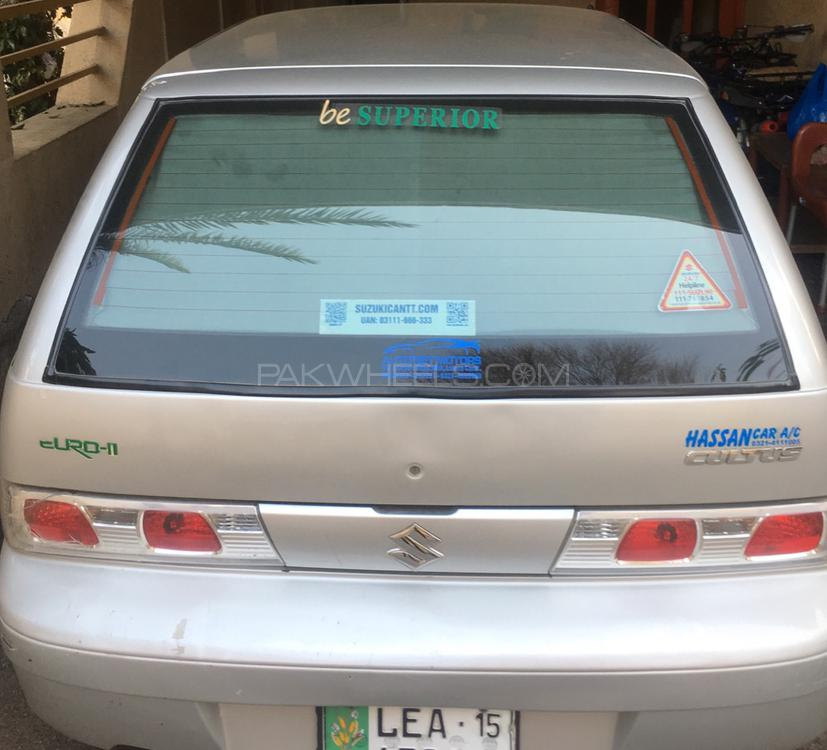plate: (314, 696, 524, 750)
